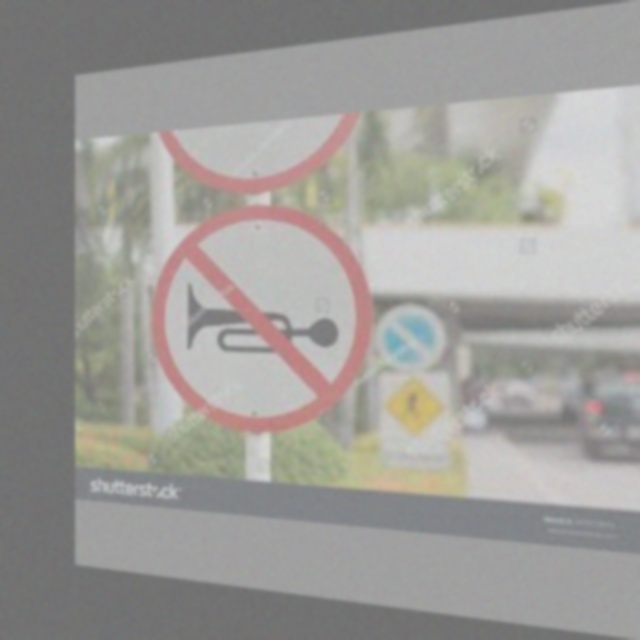Horn_Prohibited: (165, 204, 360, 431)
